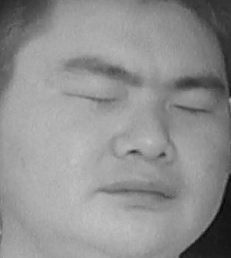blink: (69, 83, 121, 113), (172, 95, 217, 124)
mouth: (97, 168, 179, 213)
